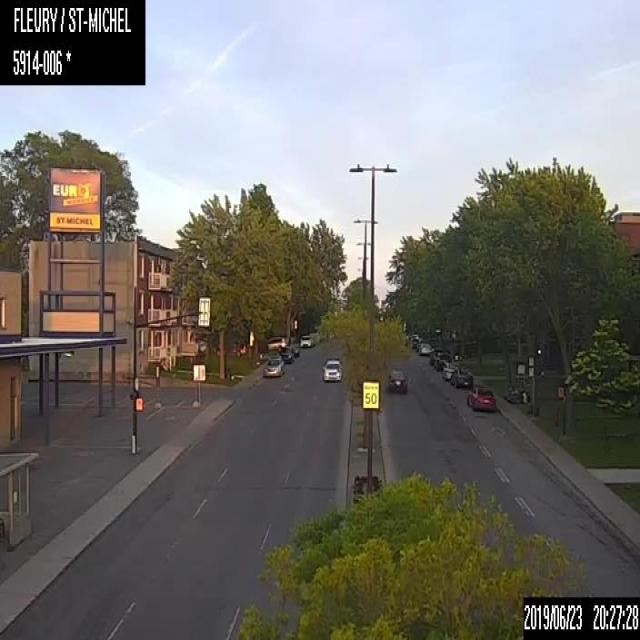vehicle: (467, 384, 495, 409), (386, 367, 408, 393), (450, 365, 473, 389), (260, 354, 284, 377), (321, 356, 343, 381), (266, 335, 286, 351), (280, 348, 298, 365), (433, 351, 450, 369), (441, 362, 457, 381), (416, 339, 434, 355), (298, 334, 313, 347)
